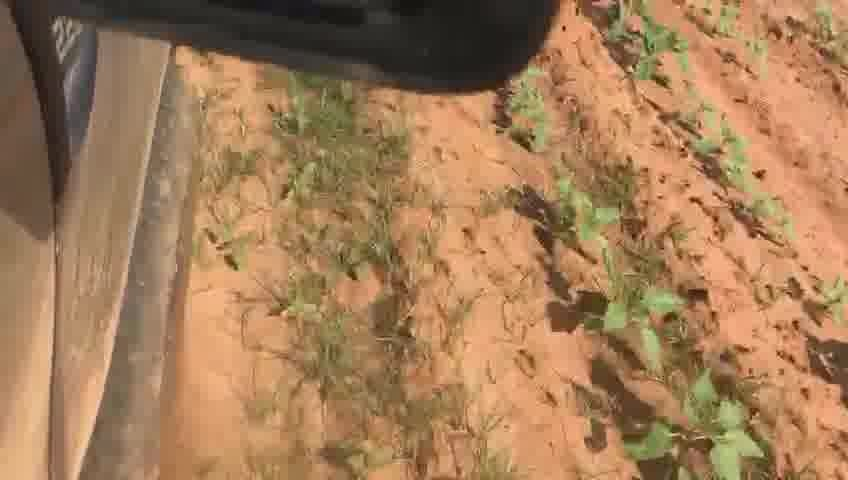sunflower: (615, 375, 766, 477), (575, 249, 688, 375), (543, 167, 627, 253), (692, 110, 757, 191), (625, 18, 691, 88), (494, 85, 555, 153), (742, 190, 799, 243), (799, 266, 839, 334)
